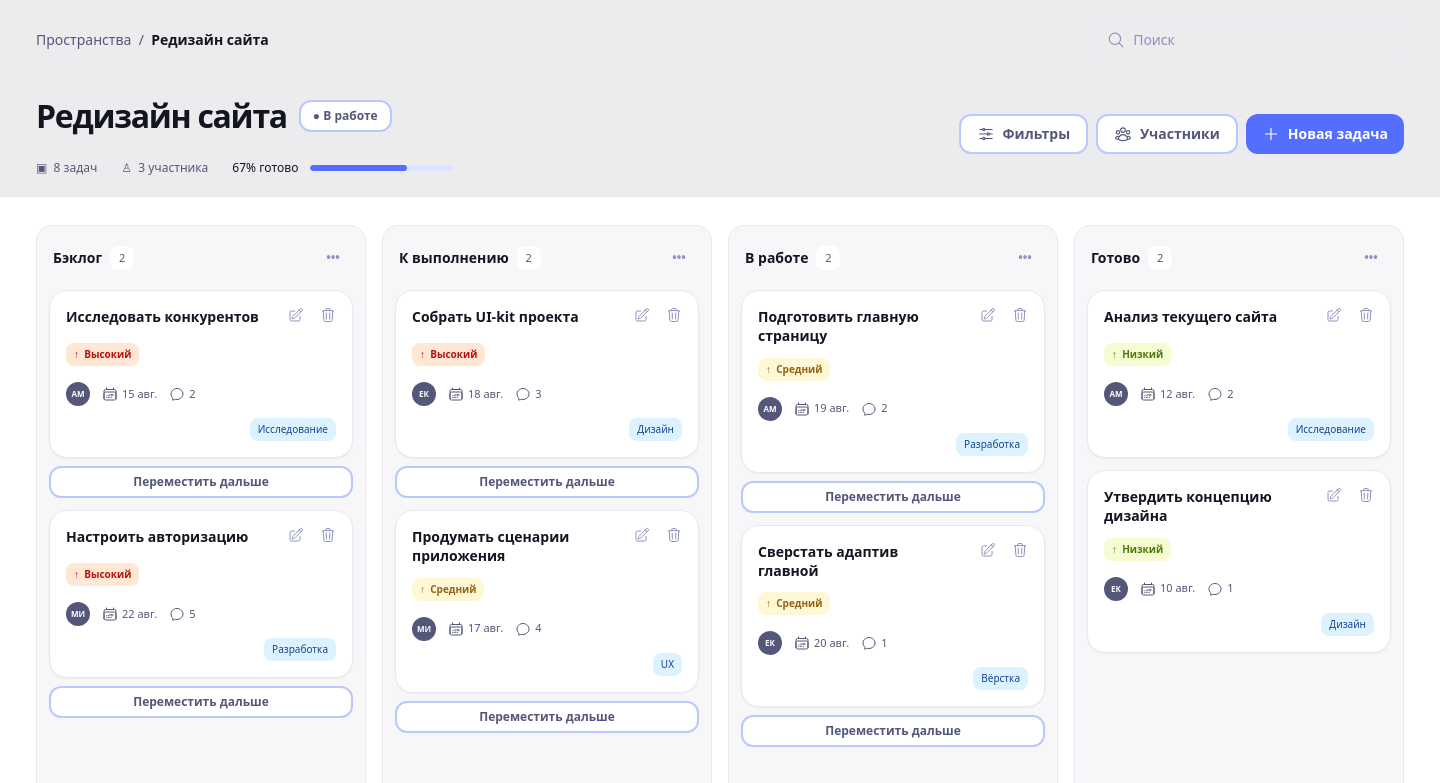
KanbanBoard › не сохраняет задачу с пустым названием
Click the button named "Редактировать задачу Исследовать конкурентов" at (296, 315), box 280,299 -> 312,331
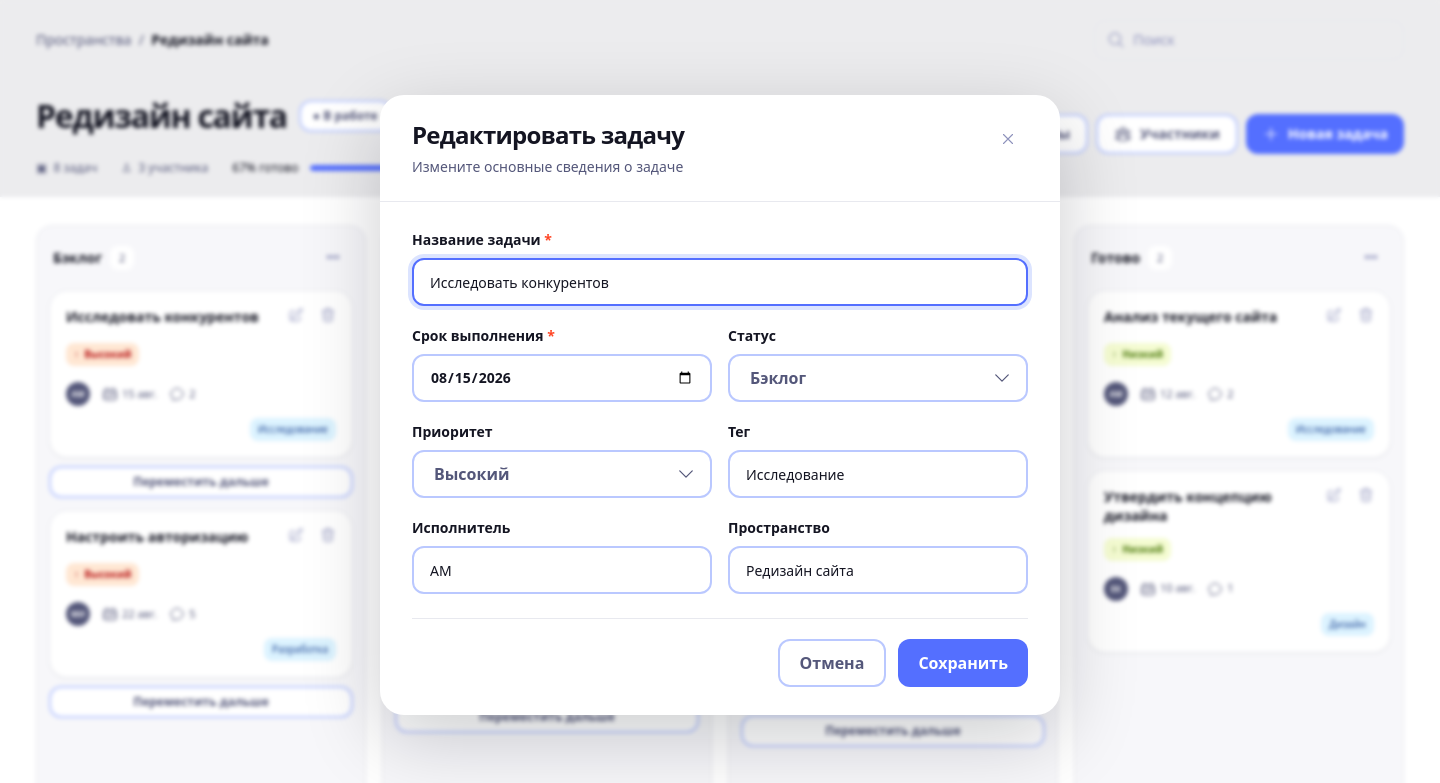
Expected: the field labelled "Название задачи *" holds "Исследовать конкурентов"
Clear the field labelled "Название задачи *" at (720, 282), box 412,258 -> 1028,306
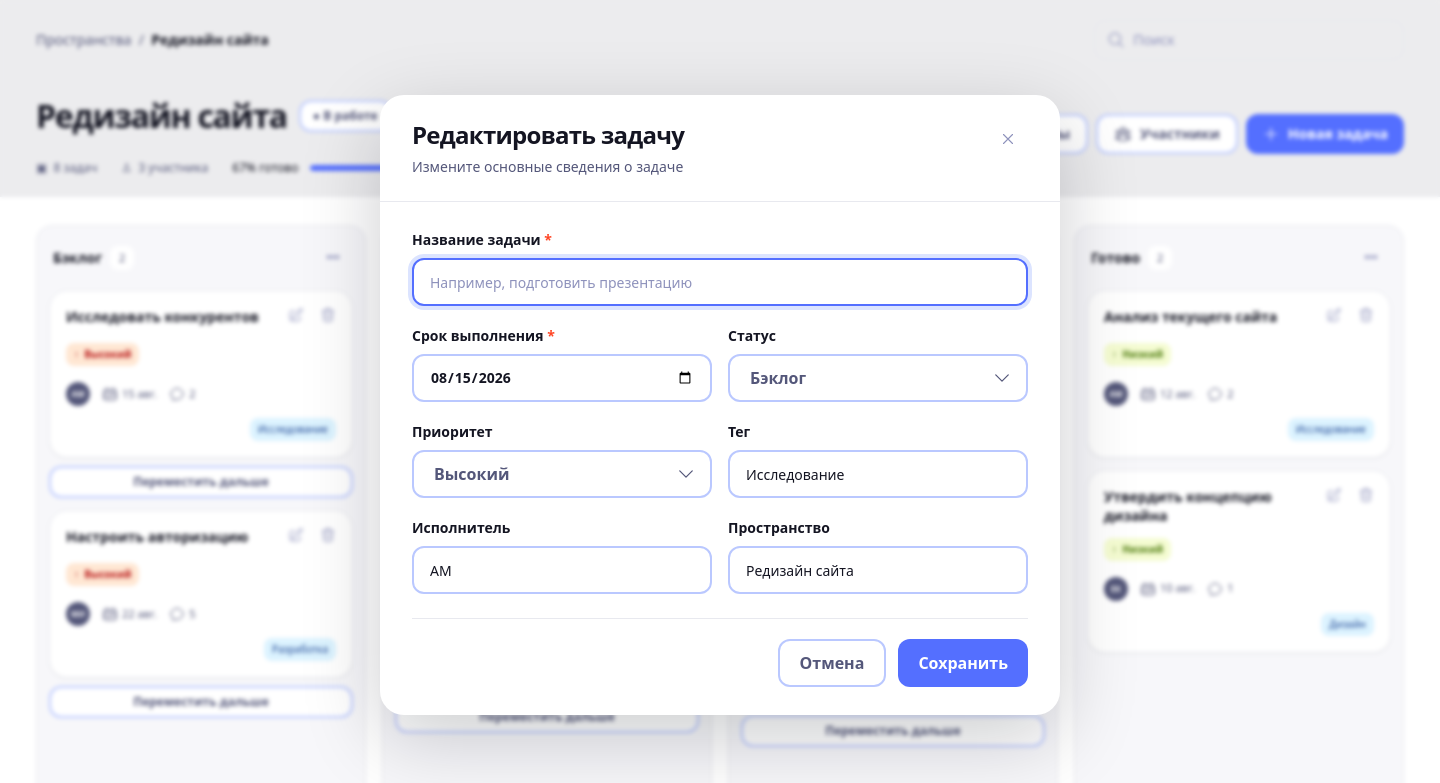
Click the button "Сохранить" at (963, 663), box 898,639 -> 1028,687
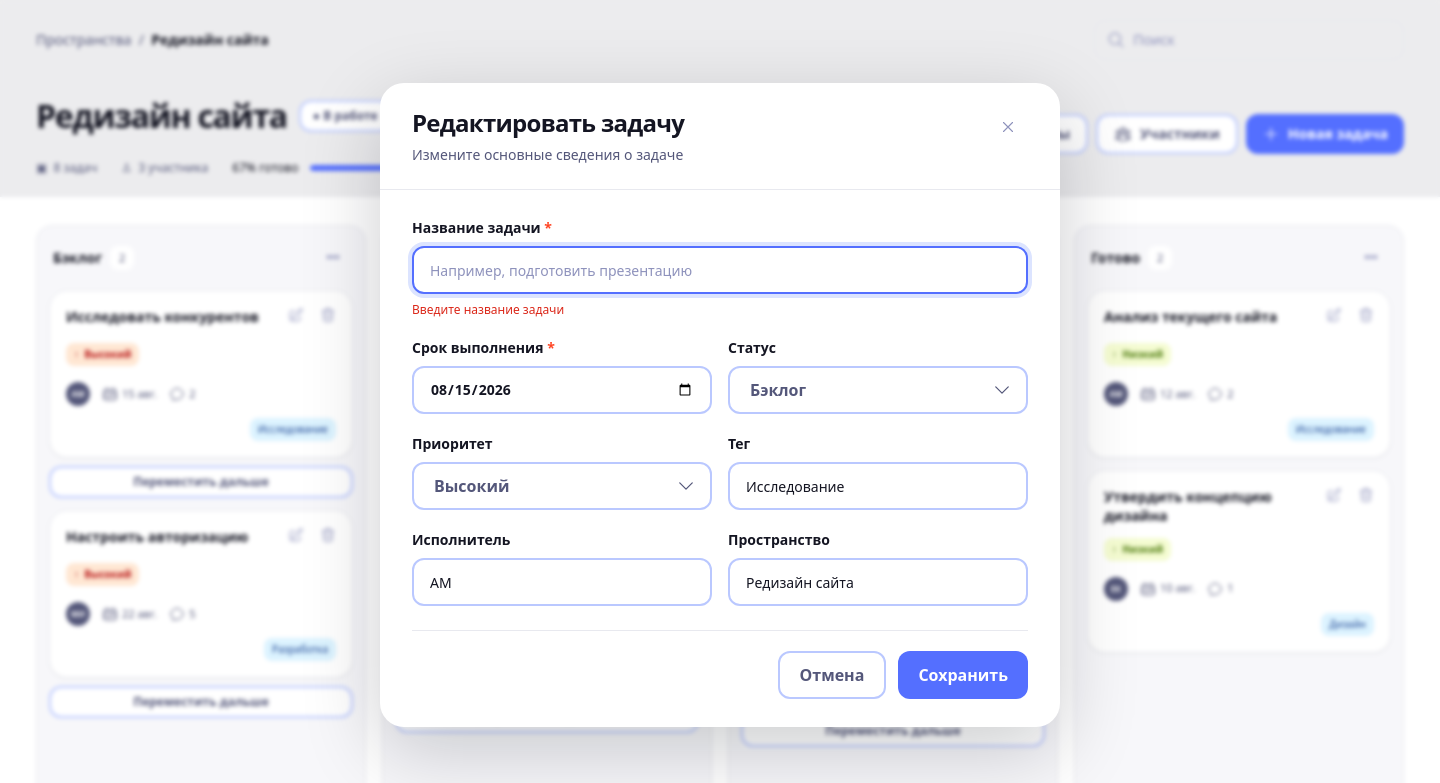
Expected: the link "Исследовать конкурентов" is shown, 66,307 -> 259,326
Expected: the dialog is shown, 380,83 -> 1060,727
Expected: the text "Введите название задачи" is shown, 412,301 -> 564,318
